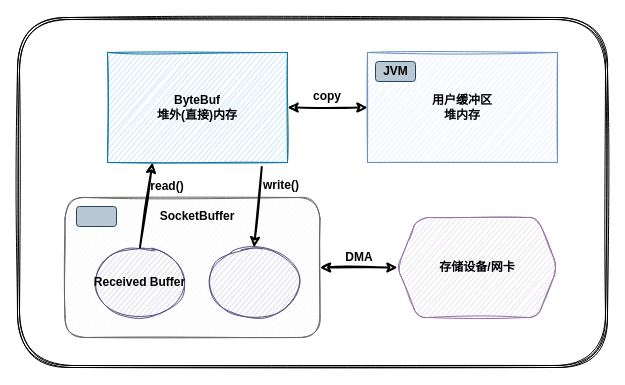
Some shapes in this 625 by 385 pixel diagram are drawn without their labels. The shapes that lost their labels are listed below. From the top down, each one's centre as x and y in pixels, then its label:
the point at 96,216: 内核
the point at 254,282: Send Buffer
